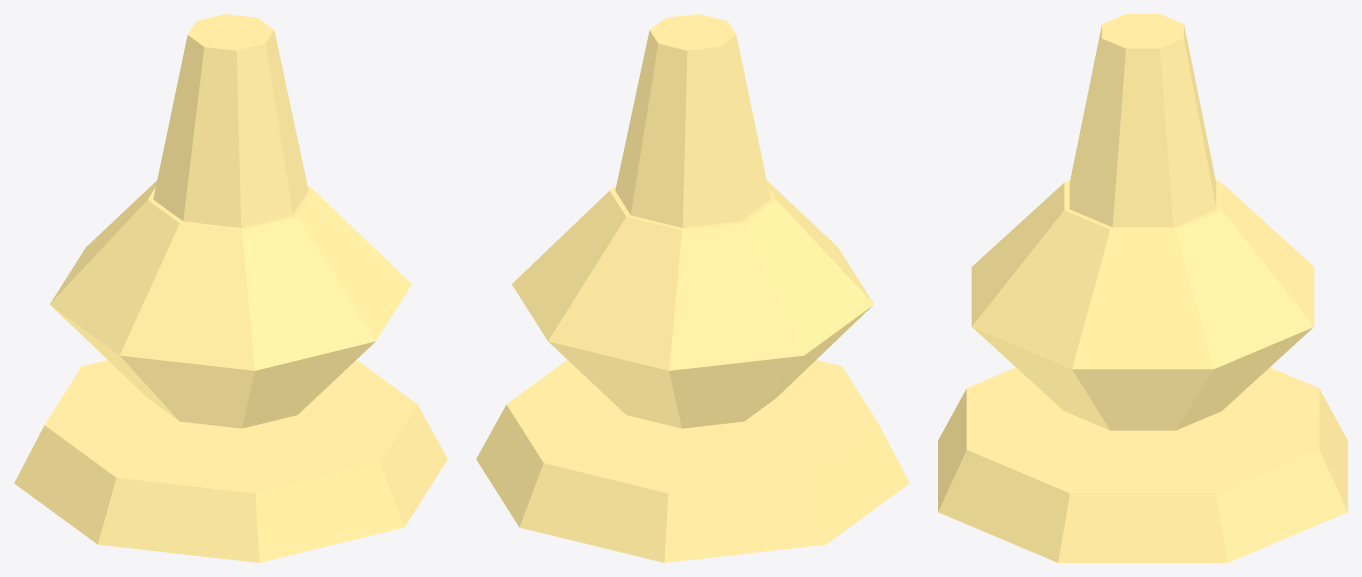
Rendered from check_item_sending.glb.
The picture shows the model from 3 angles, left to right: view 1: azimuth 30°, elevation 25°; view 2: azimuth 150°, elevation 25°; view 3: azimuth 270°, elevation 25°; orthographic projection.
Visible parts, largest first — view 1: check_item_sending; view 2: check_item_sending; view 3: check_item_sending.
Part boxes in pixels (<box>): check_item_sending: <box>14,14,447,562</box>; check_item_sending: <box>476,14,909,562</box>; check_item_sending: <box>938,14,1347,562</box>.
Bounding box in the file's own units: 0.2587 × 0.31 × 0.2587.
